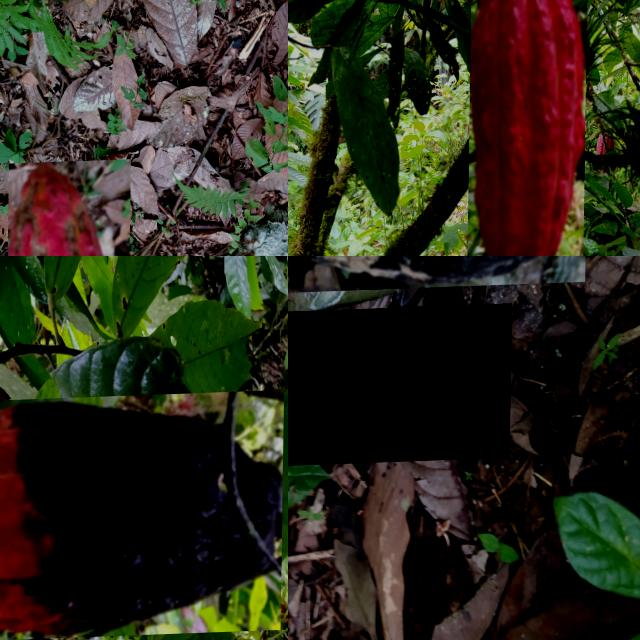Fitoftora: (0, 394, 284, 640)
Monilia: (288, 307, 512, 468)
Sana: (468, 0, 588, 256), (5, 160, 131, 256)
